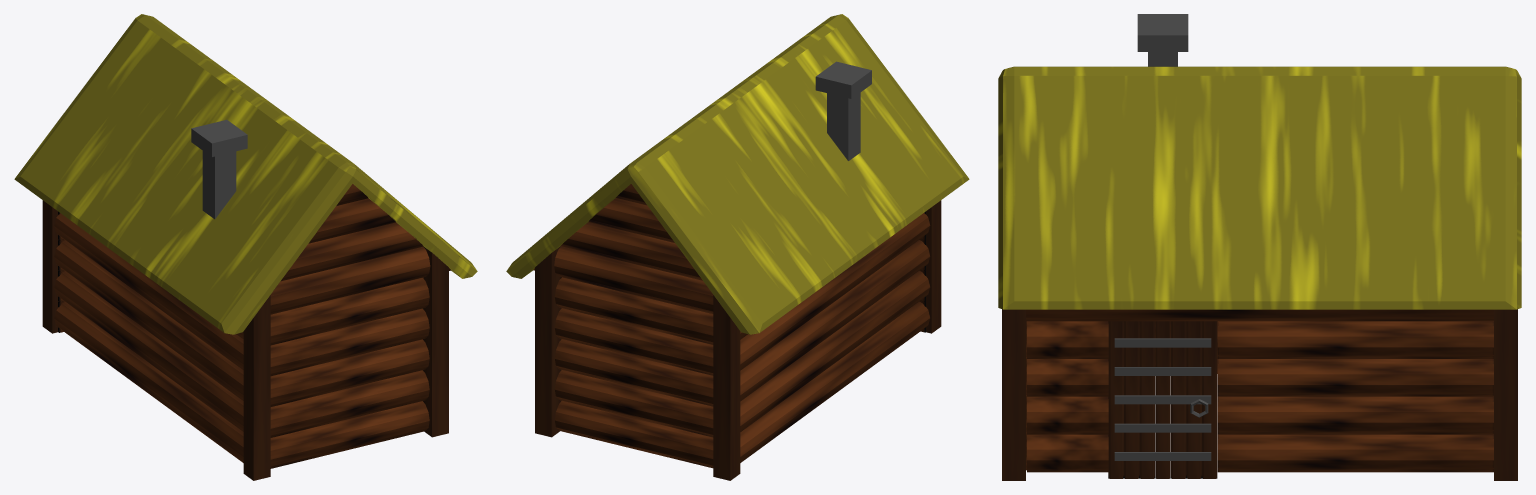
The model's file is house.fbx.
The picture shows the model from 3 angles, left to right: view 1: azimuth 30°, elevation 25°; view 2: azimuth 150°, elevation 25°; view 3: azimuth 270°, elevation 25°; orthographic projection. The views are drawn at different scales.
Visible parts, largest first — view 1: Cube.011; view 2: Cube.011; view 3: Cube.011.
Boxes of the visible parts, x1,y1,x2,y2 form: Cube.011: (14,14,477,480); Cube.011: (506,14,969,480); Cube.011: (998,14,1521,480).
Bounding box in the file's own units: 328 × 369 × 481.
4 materials, 3 textured.
